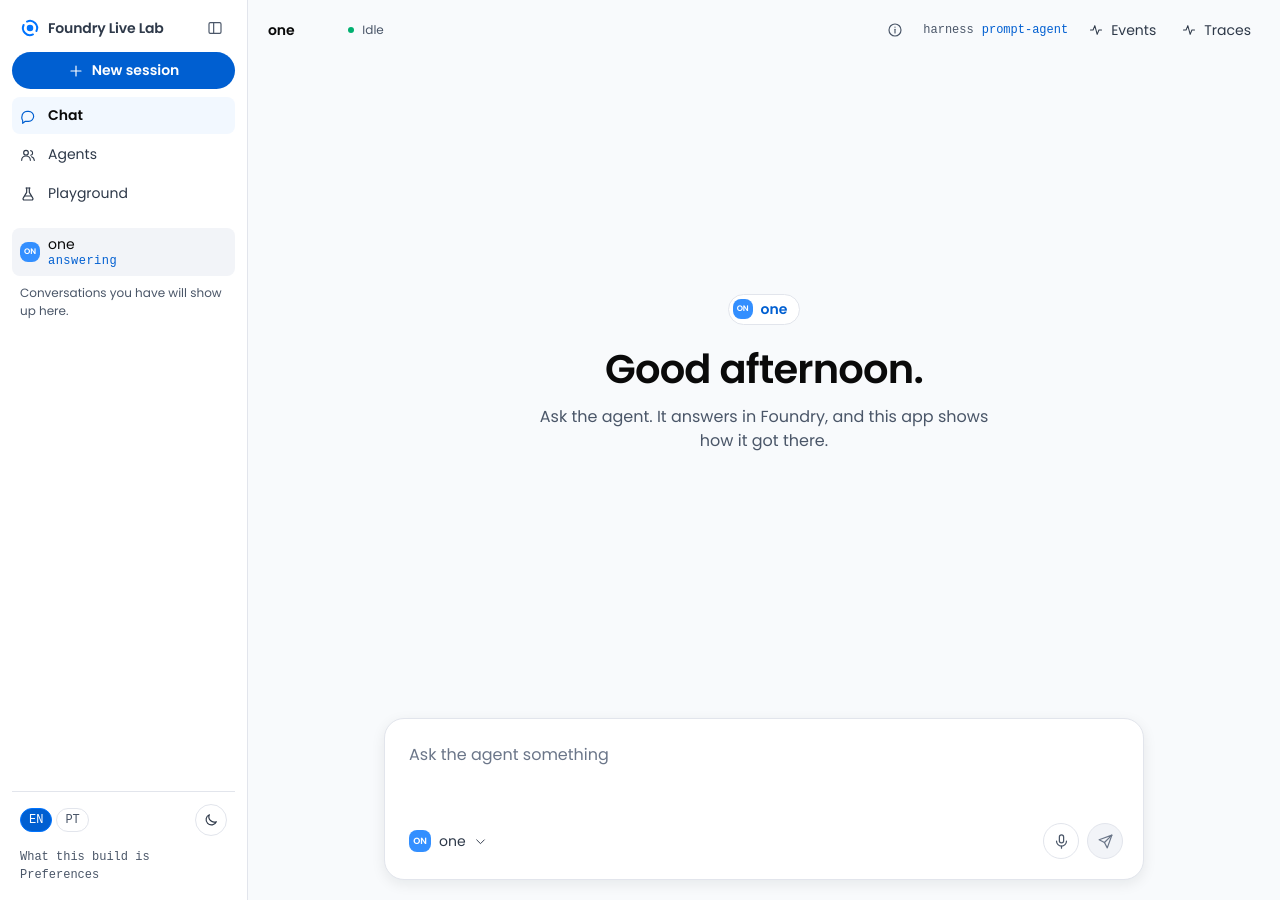
it: preferences consumed by App (issue #29) › keeps a deliberate reasoning choice while more stream frames arrive
Type "question" into the text box.
click(764, 775); type("question")  # box [401,735,1127,815]
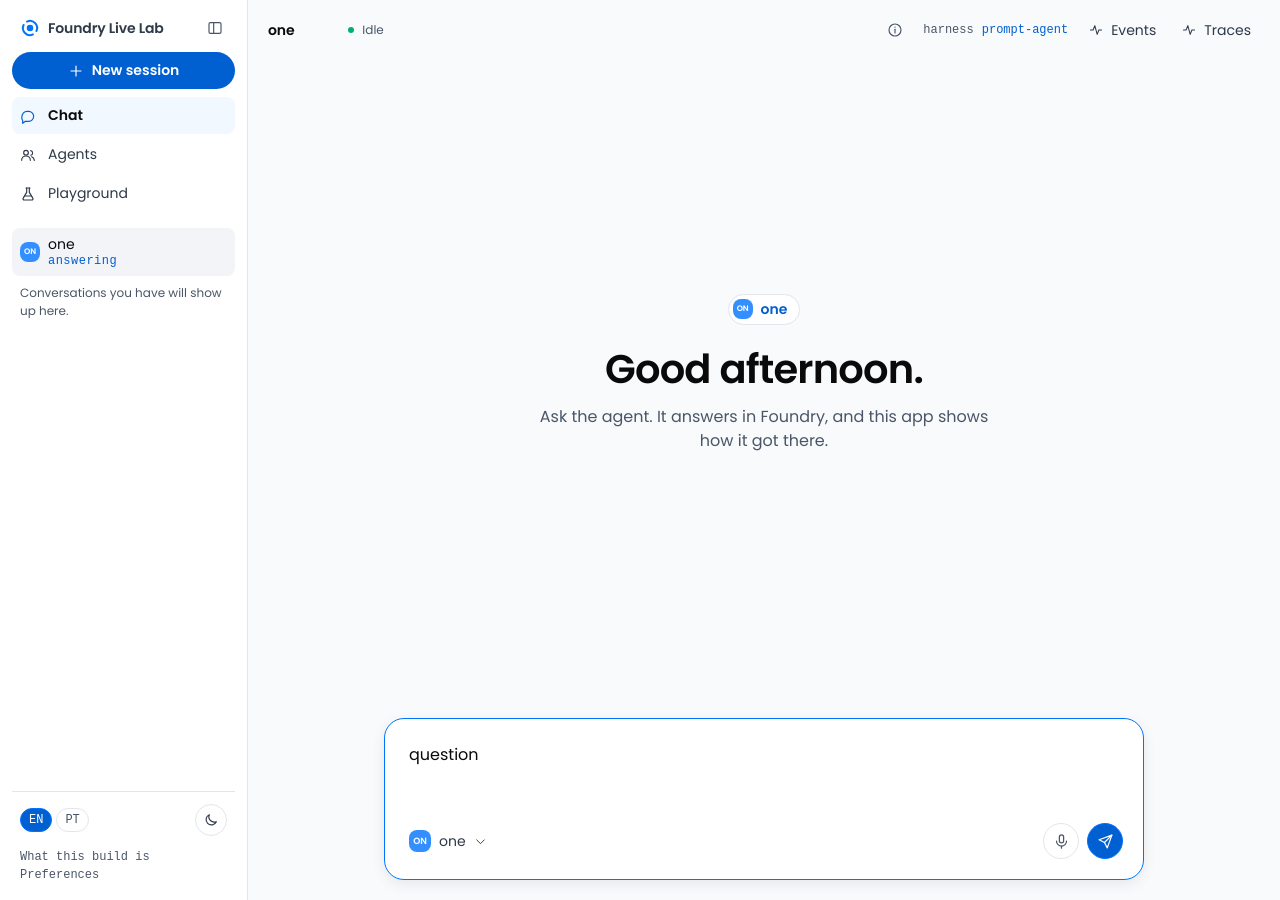
Click the button named "send".
click(1105, 841)  # box [1087,823,1123,859]
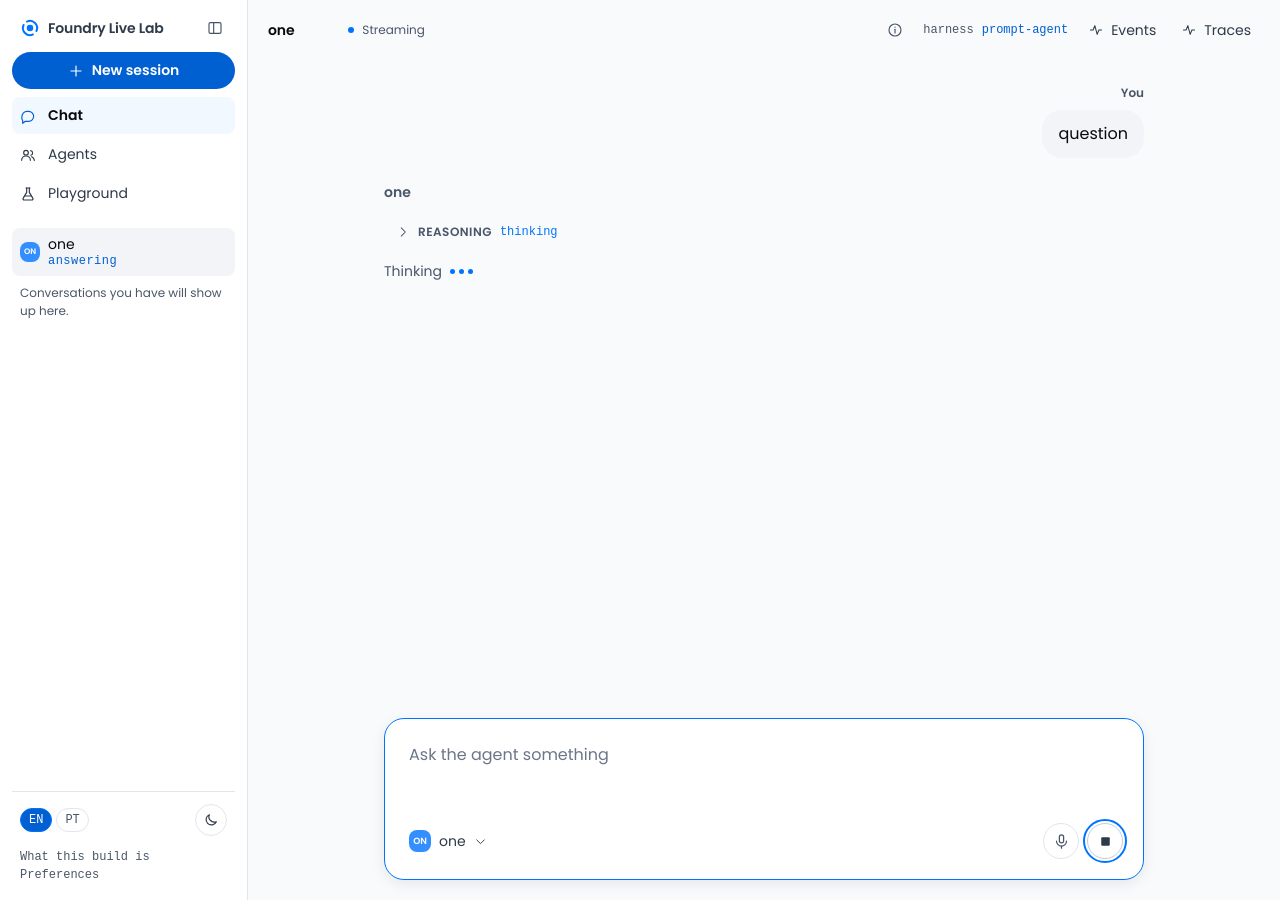
Click the button with aria-label "Show or hide the reasoning summary".
click(455, 232)  # box [384,215,1144,249]
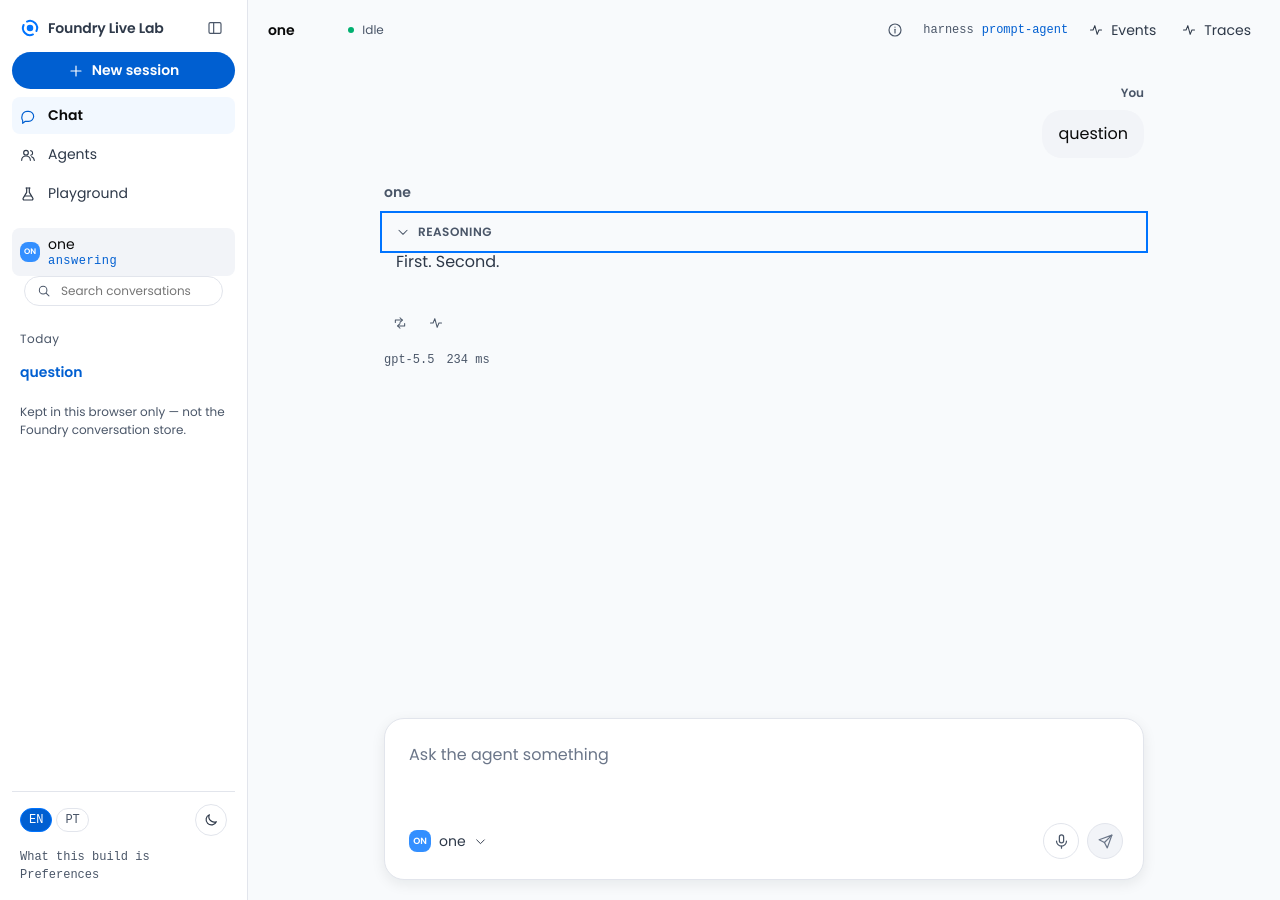
Now the element with test id "reasoning-body" reads "First. Second.", box [396,250,500,273]
